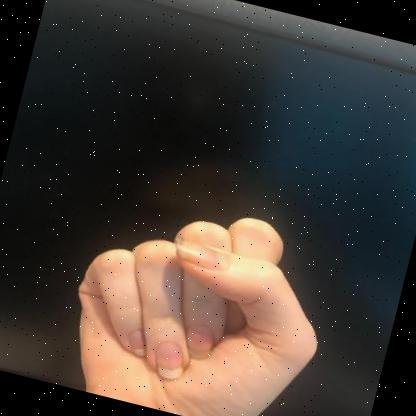S: (78, 217, 317, 416)
